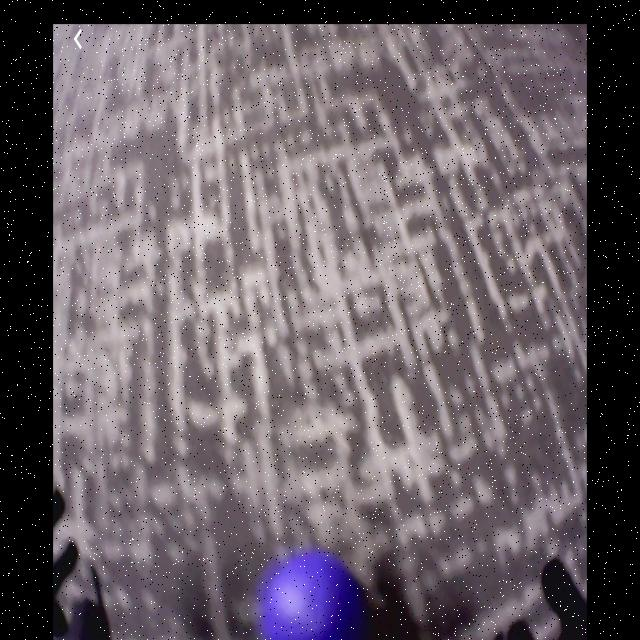ball: (263, 558, 362, 640)
